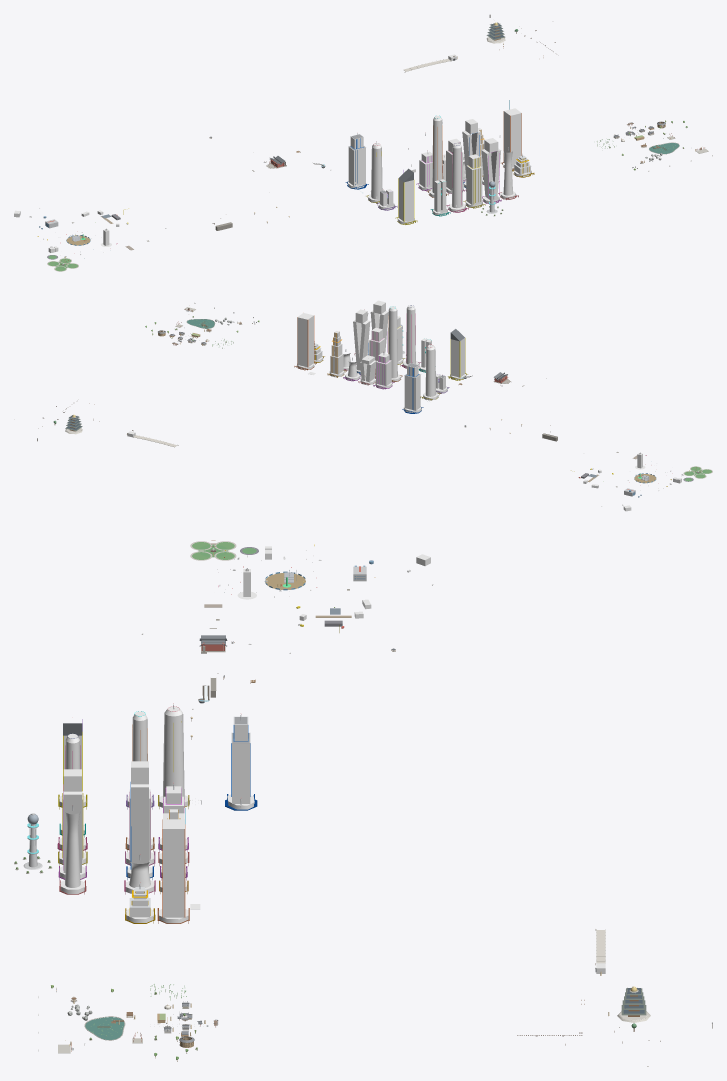
Rendered from pack_4.glb.
3 renders of one model, top to bottom at view 1: azimuth 30°, elevation 25°; view 2: azimuth 150°, elevation 25°; view 3: azimuth 270°, elevation 25°, orthographic. The views are drawn at different scales.
Visible parts, largest first — view 1: pack_4.glb; view 2: pack_4.glb; view 3: pack_4.glb.
Boxes of the visible parts, <box> form: pack_4.glb: <box>14,14,712,271</box>; pack_4.glb: <box>37,300,712,511</box>; pack_4.glb: <box>14,540,712,1066</box>.
Bounding box in the file's own units: 2070 × 253 × 1163.
